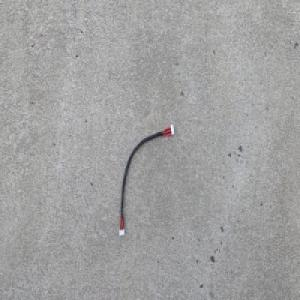Wire: (117, 122, 175, 237)
